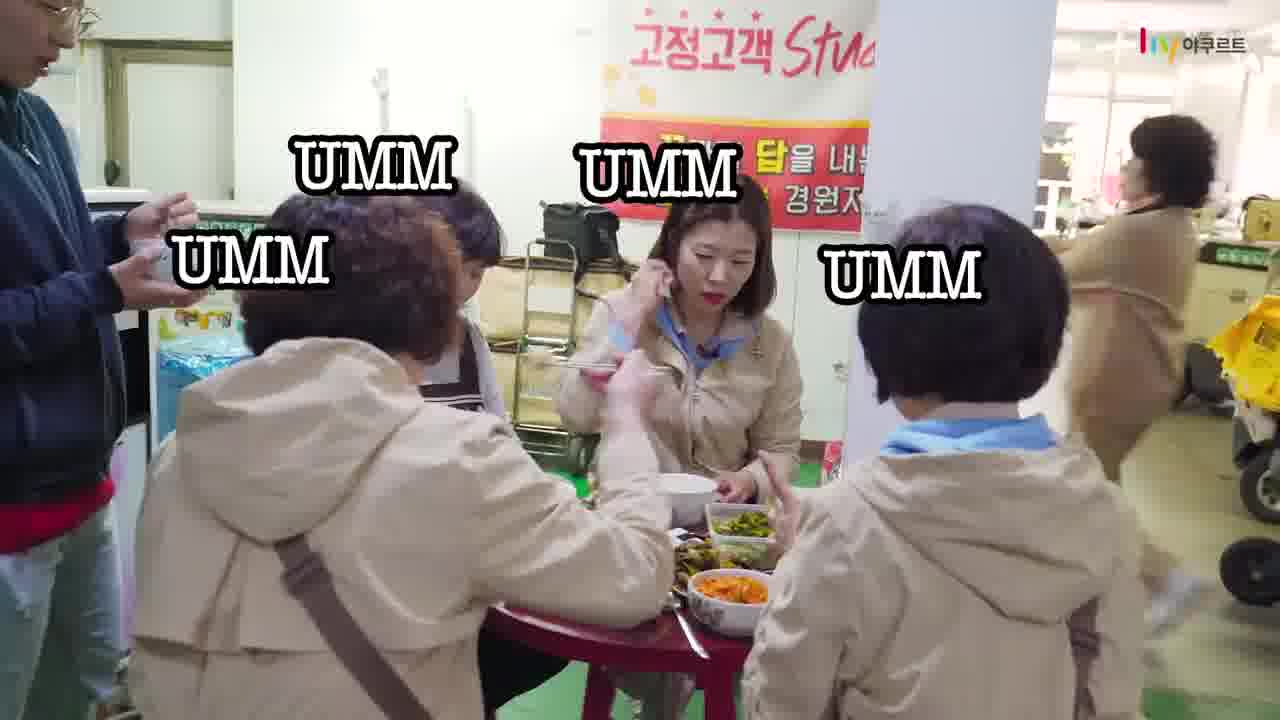Yakurut: (109, 190, 677, 720), (743, 132, 1199, 720), (567, 152, 804, 503), (1053, 92, 1241, 475)
